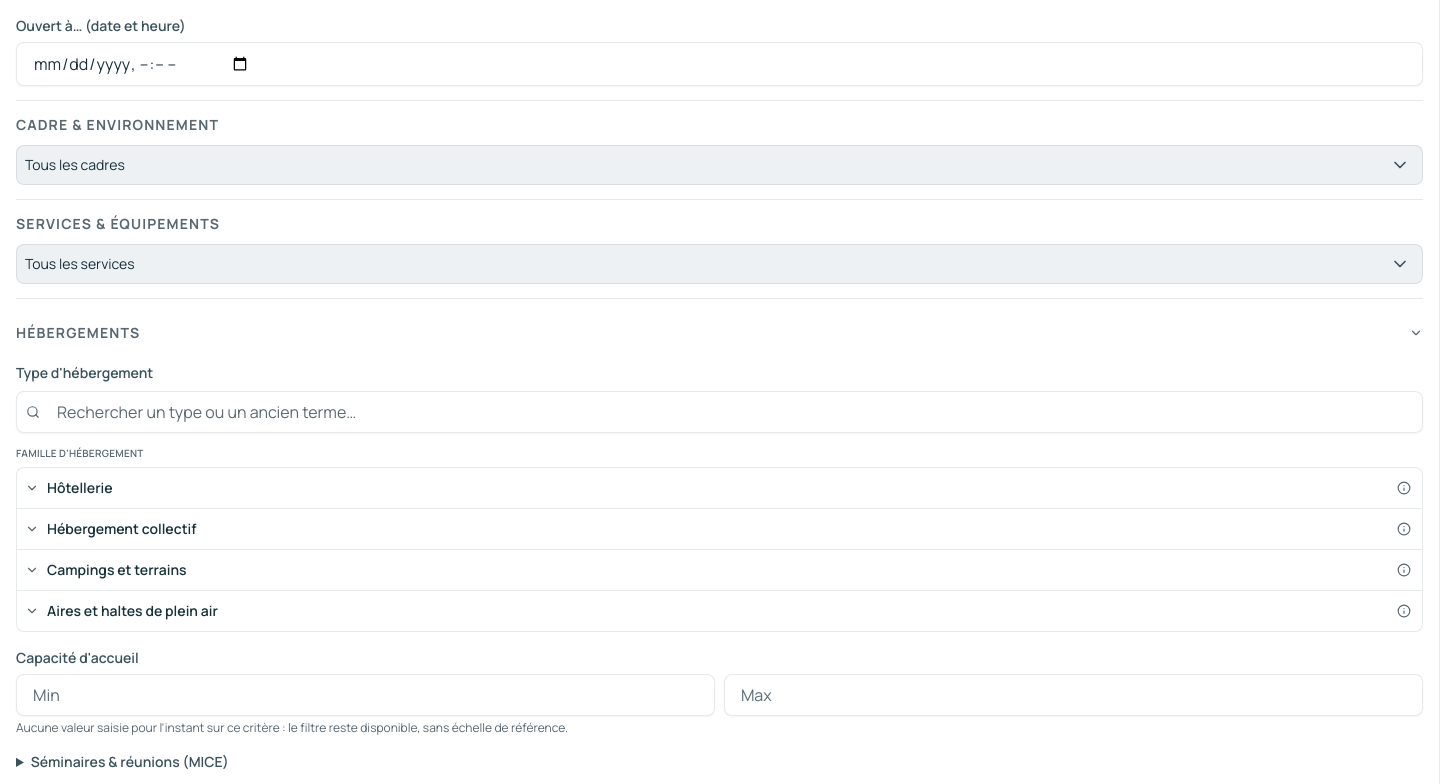
FiltersPanel — sections type-spécifiques repliables › §201 — hiérarchie v2 des hébergements › retrouve les deux nouvelles familles via l'ancien terme « plein air »
(page scrolled)
Type "plein air" into the field named "Rechercher un type d'hébergement" at (720, 412), box [16,391,1423,433]
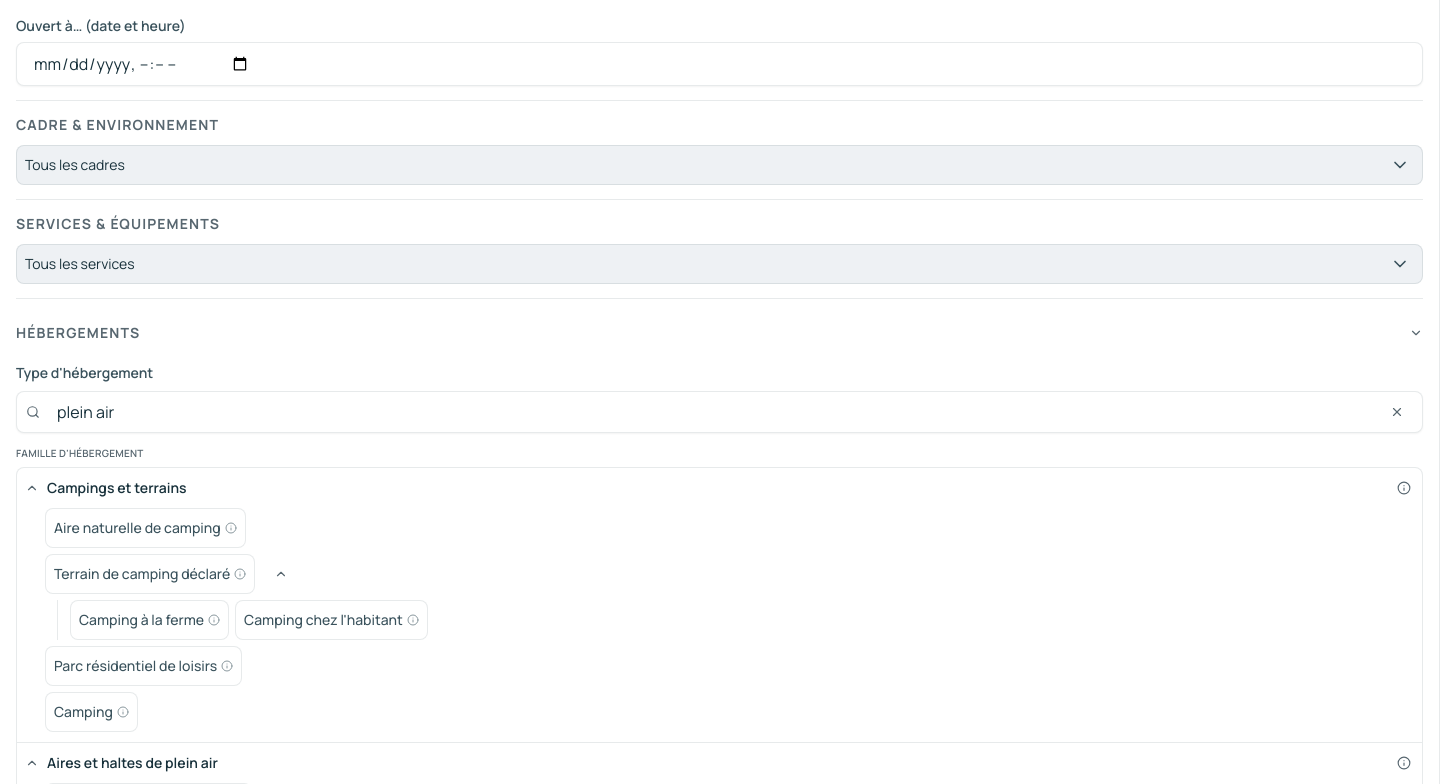
Expected: the button "Parc résidentiel de loisirs" is shown, [45,646,242,686]
